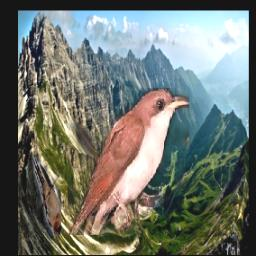Cuckoo: (69, 88, 190, 235)
Swallow: (32, 158, 61, 237)
